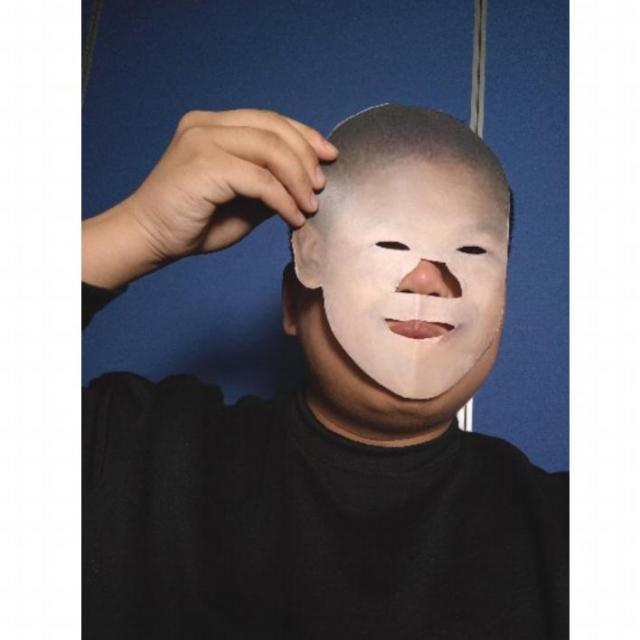mask: (284, 98, 518, 404)
